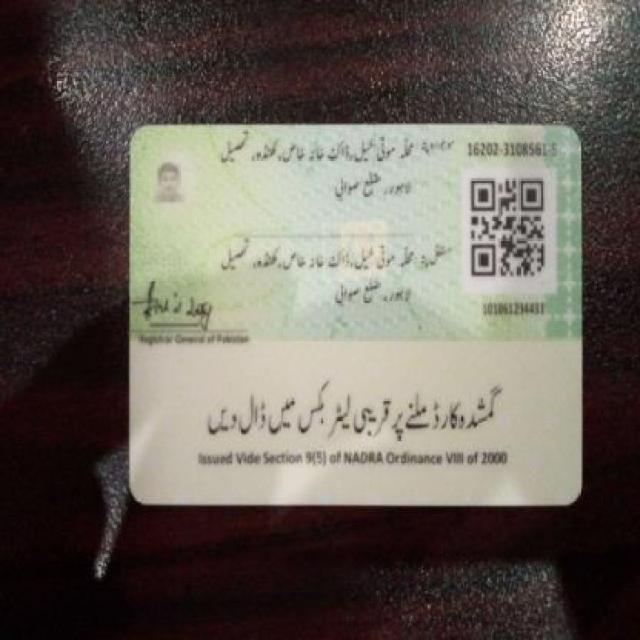Back: (123, 118, 589, 514)
